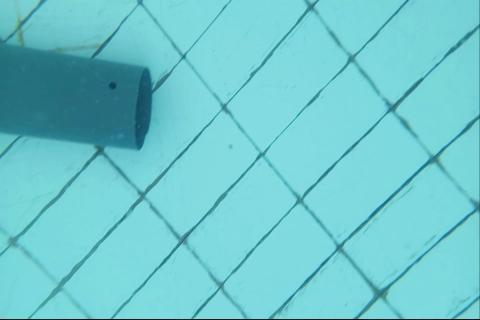kebocoran: (107, 80, 117, 91)
